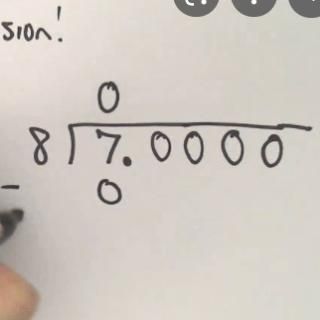.: (121, 155, 135, 167)
0: (96, 78, 122, 115), (148, 129, 174, 163), (182, 130, 206, 166)
7: (94, 125, 122, 167)
8: (25, 122, 52, 168)
